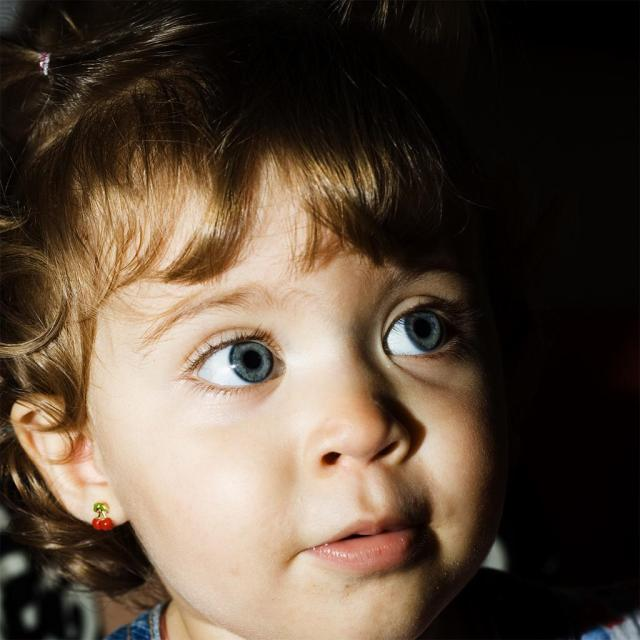no-glass: (164, 297, 462, 402)
